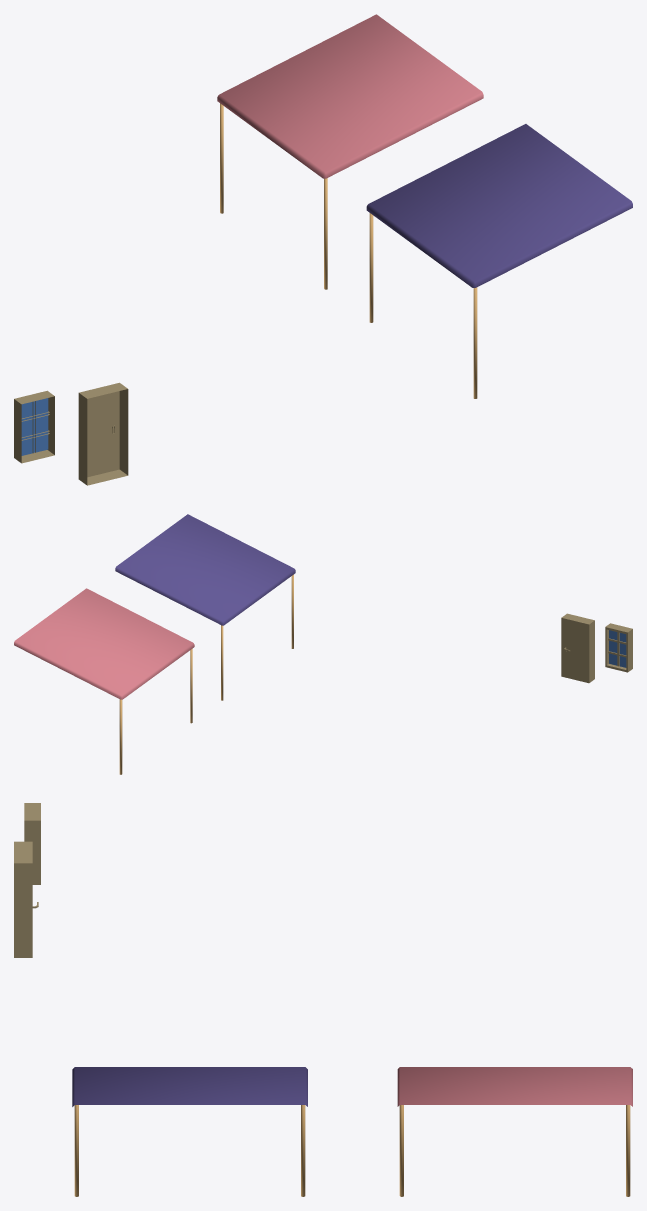
The model's file is prostredie_assety.fbx.
The picture shows the model from 3 angles, top to bottom: view 1: azimuth 30°, elevation 25°; view 2: azimuth 150°, elevation 25°; view 3: azimuth 270°, elevation 25°; orthographic projection. The views are drawn at different scales.
Parts seen in each view (by area): view 1: Cylinder, Cylinder.007, Cube, okno; view 2: Cylinder.007, Cylinder, Cube, okno; view 3: Cylinder.007, Cylinder, Cube, okno.
Part boxes in pixels (x1,y1,x2,y2): Cylinder: (366,124,632,398); Cylinder.007: (217,14,483,289); Cube: (78,382,128,485); okno: (14,390,54,463); Cylinder.007: (14,588,194,774); Cylinder: (115,514,295,700); Cube: (561,613,594,683); okno: (605,623,632,672); Cylinder.007: (397,1067,632,1196); Cylinder: (72,1067,307,1196); Cube: (14,841,38,957); okno: (24,803,40,884).
Bounding box in the file's own units: 676 × 163 × 526.
